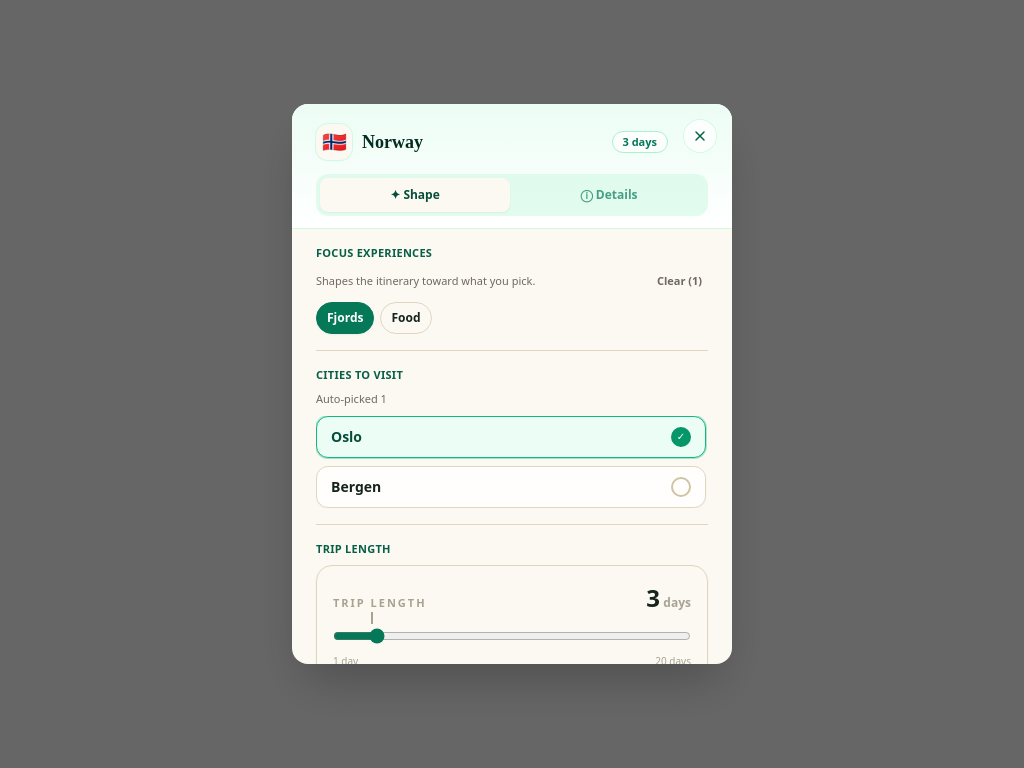
Scenario: SegmentAdjustDrawer › exposes a Details tab with per-stop reference when country data exists
The image size is (1024, 768).
Click the tab "ⓘ Details". click: (609,195)
box: x1=514 y1=178 x2=704 y2=212
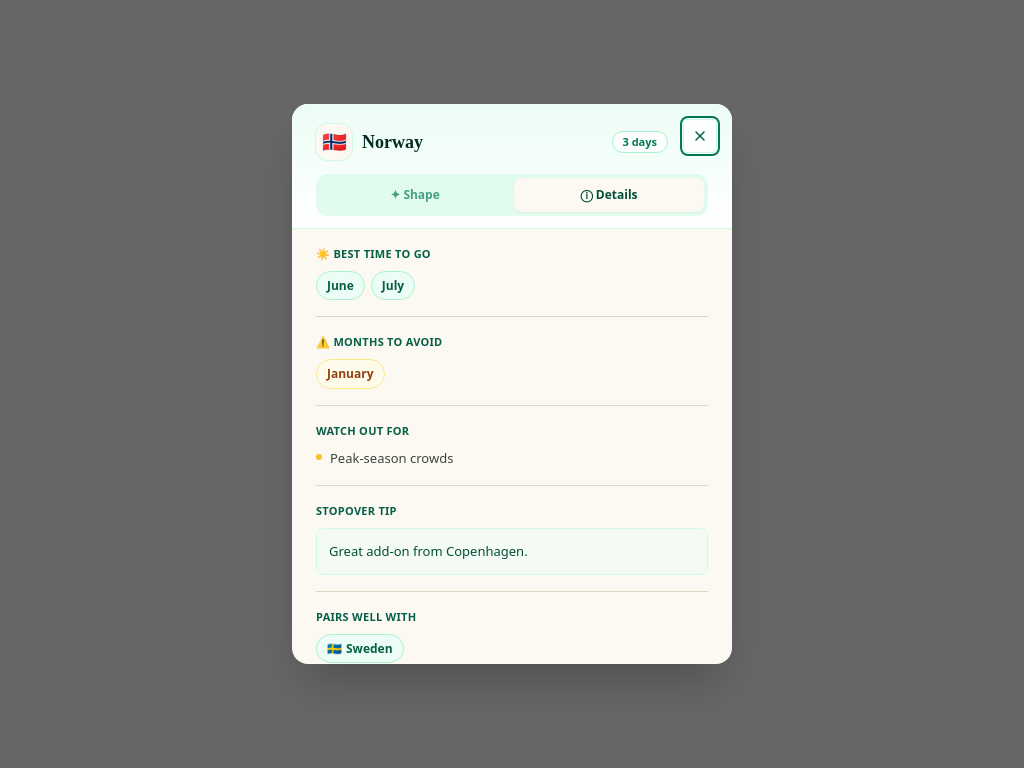
Now the text "June" is shown, box x1=316 y1=271 x2=365 y2=300
Now the text "July" is shown, box x1=371 y1=271 x2=415 y2=300
Now the text "Peak-season crowds" is shown, box x1=330 y1=448 x2=453 y2=469
